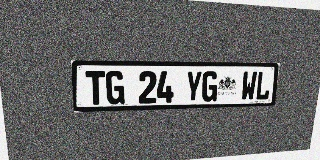2: (139, 71, 157, 104)
4: (157, 71, 174, 103)
G: (106, 71, 125, 104), (201, 71, 218, 102)
L: (255, 71, 272, 100)
T: (85, 71, 106, 105)
W: (240, 71, 257, 101)
Y: (185, 71, 202, 102)
